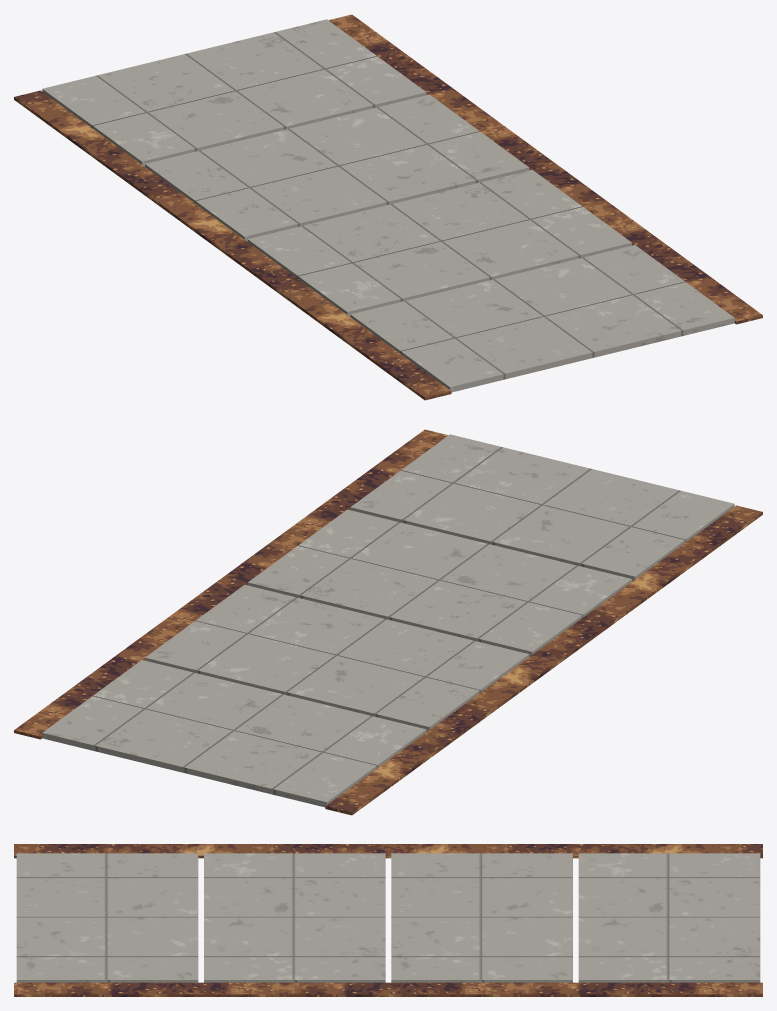
Rendered from driveway.glb.
3 renders of one model, top to bottom at view 1: azimuth 30°, elevation 25°; view 2: azimuth 150°, elevation 25°; view 3: azimuth 270°, elevation 25°, orthographic. The views are drawn at different scales.
Visible parts, largest first — view 1: Ground; view 2: Ground; view 3: Ground.
Part boxes in pixels (x1,y1,x2,y2): Ground: (14, 14, 762, 400); Ground: (14, 429, 762, 815); Ground: (14, 844, 762, 996).
Size of the model in its own units: 3.8 by 0.06 by 8.
2 materials, 2 textured.
